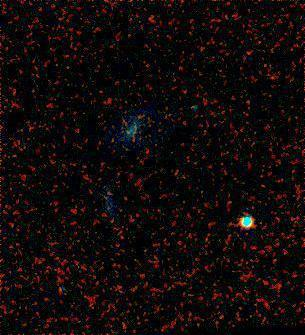star: (99, 122, 129, 152)
